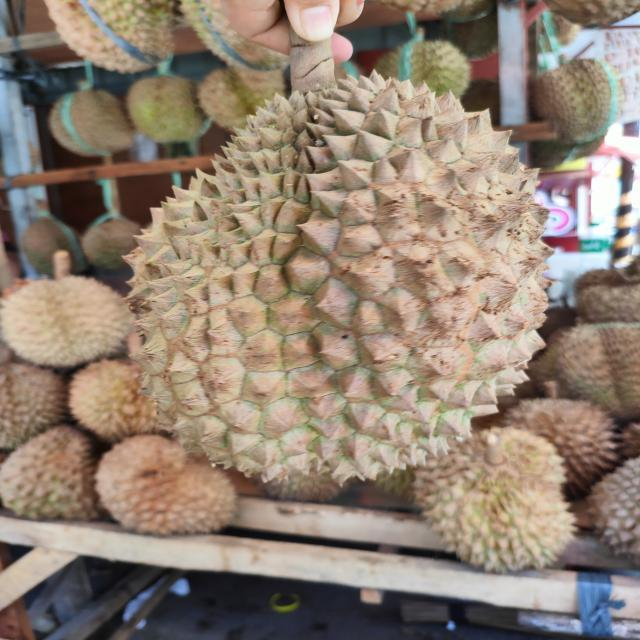mature: (118, 69, 552, 489)
